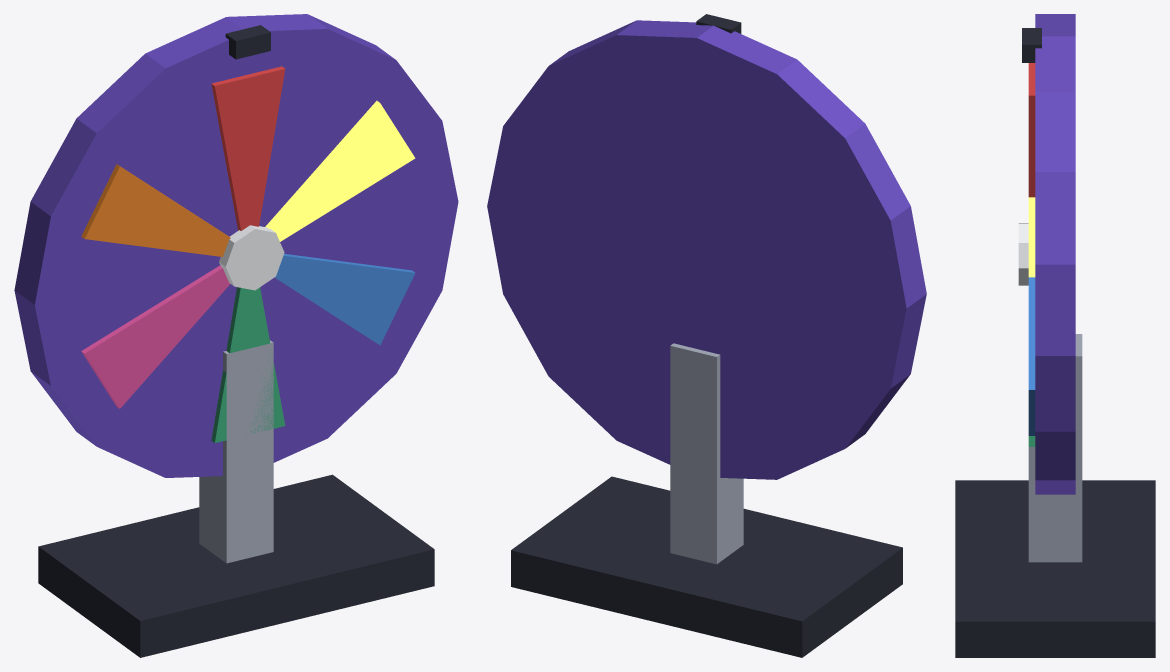
The model's file is prize-wheel.glb.
3 views of the same model, side by side, from view 1: azimuth 30°, elevation 25°; view 2: azimuth 150°, elevation 25°; view 3: azimuth 270°, elevation 25° (orthographic).
Visible parts, largest first — view 1: prize-wheel; view 2: prize-wheel; view 3: prize-wheel.
Boxes of the visible parts, bbox=[...] form: prize-wheel: bbox=[14, 14, 458, 657]; prize-wheel: bbox=[487, 14, 926, 657]; prize-wheel: bbox=[955, 14, 1155, 657].
Size of the model in its own units: 0.72 by 0.91 by 0.3.
Materials: 1 (1 with a texture image).
